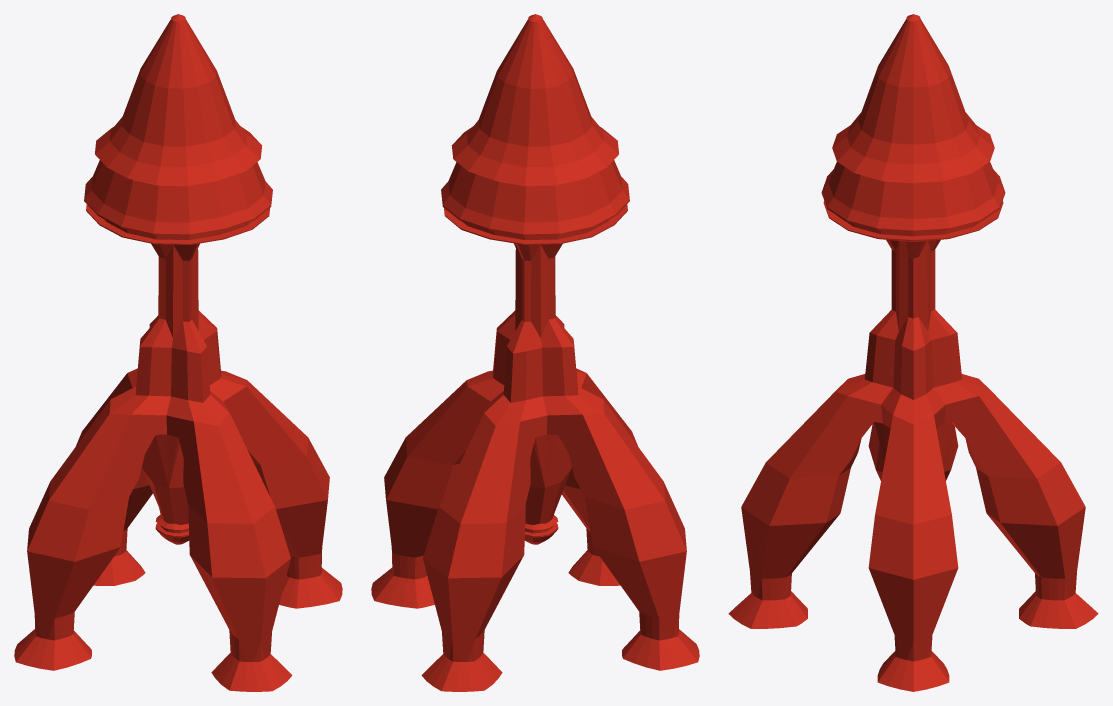
File: maintower.obj
3 views of the same model, side by side, from view 1: azimuth 30°, elevation 25°; view 2: azimuth 150°, elevation 25°; view 3: azimuth 270°, elevation 25° (orthographic).
Parts seen in each view (by area): view 1: Cube; view 2: Cube; view 3: Cube.
Part boxes in pixels (<box>): Cube: <box>14,14,342,691</box>; Cube: <box>371,14,699,691</box>; Cube: <box>728,14,1098,691</box>.
Bounding box in the file's own units: 42.83 × 76.52 × 42.83.
